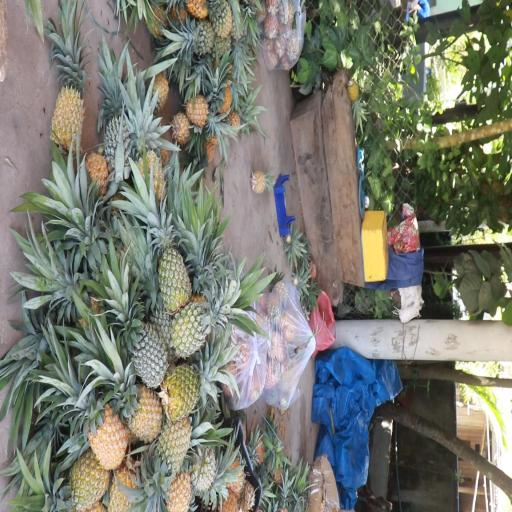------------------------------: (169, 282, 243, 352), (162, 348, 236, 413), (150, 209, 195, 312)
Pineapple - v8 v1: (71, 382, 127, 459), (52, 46, 90, 152), (150, 409, 192, 494), (50, 449, 110, 508), (117, 384, 164, 442), (181, 86, 229, 141)
